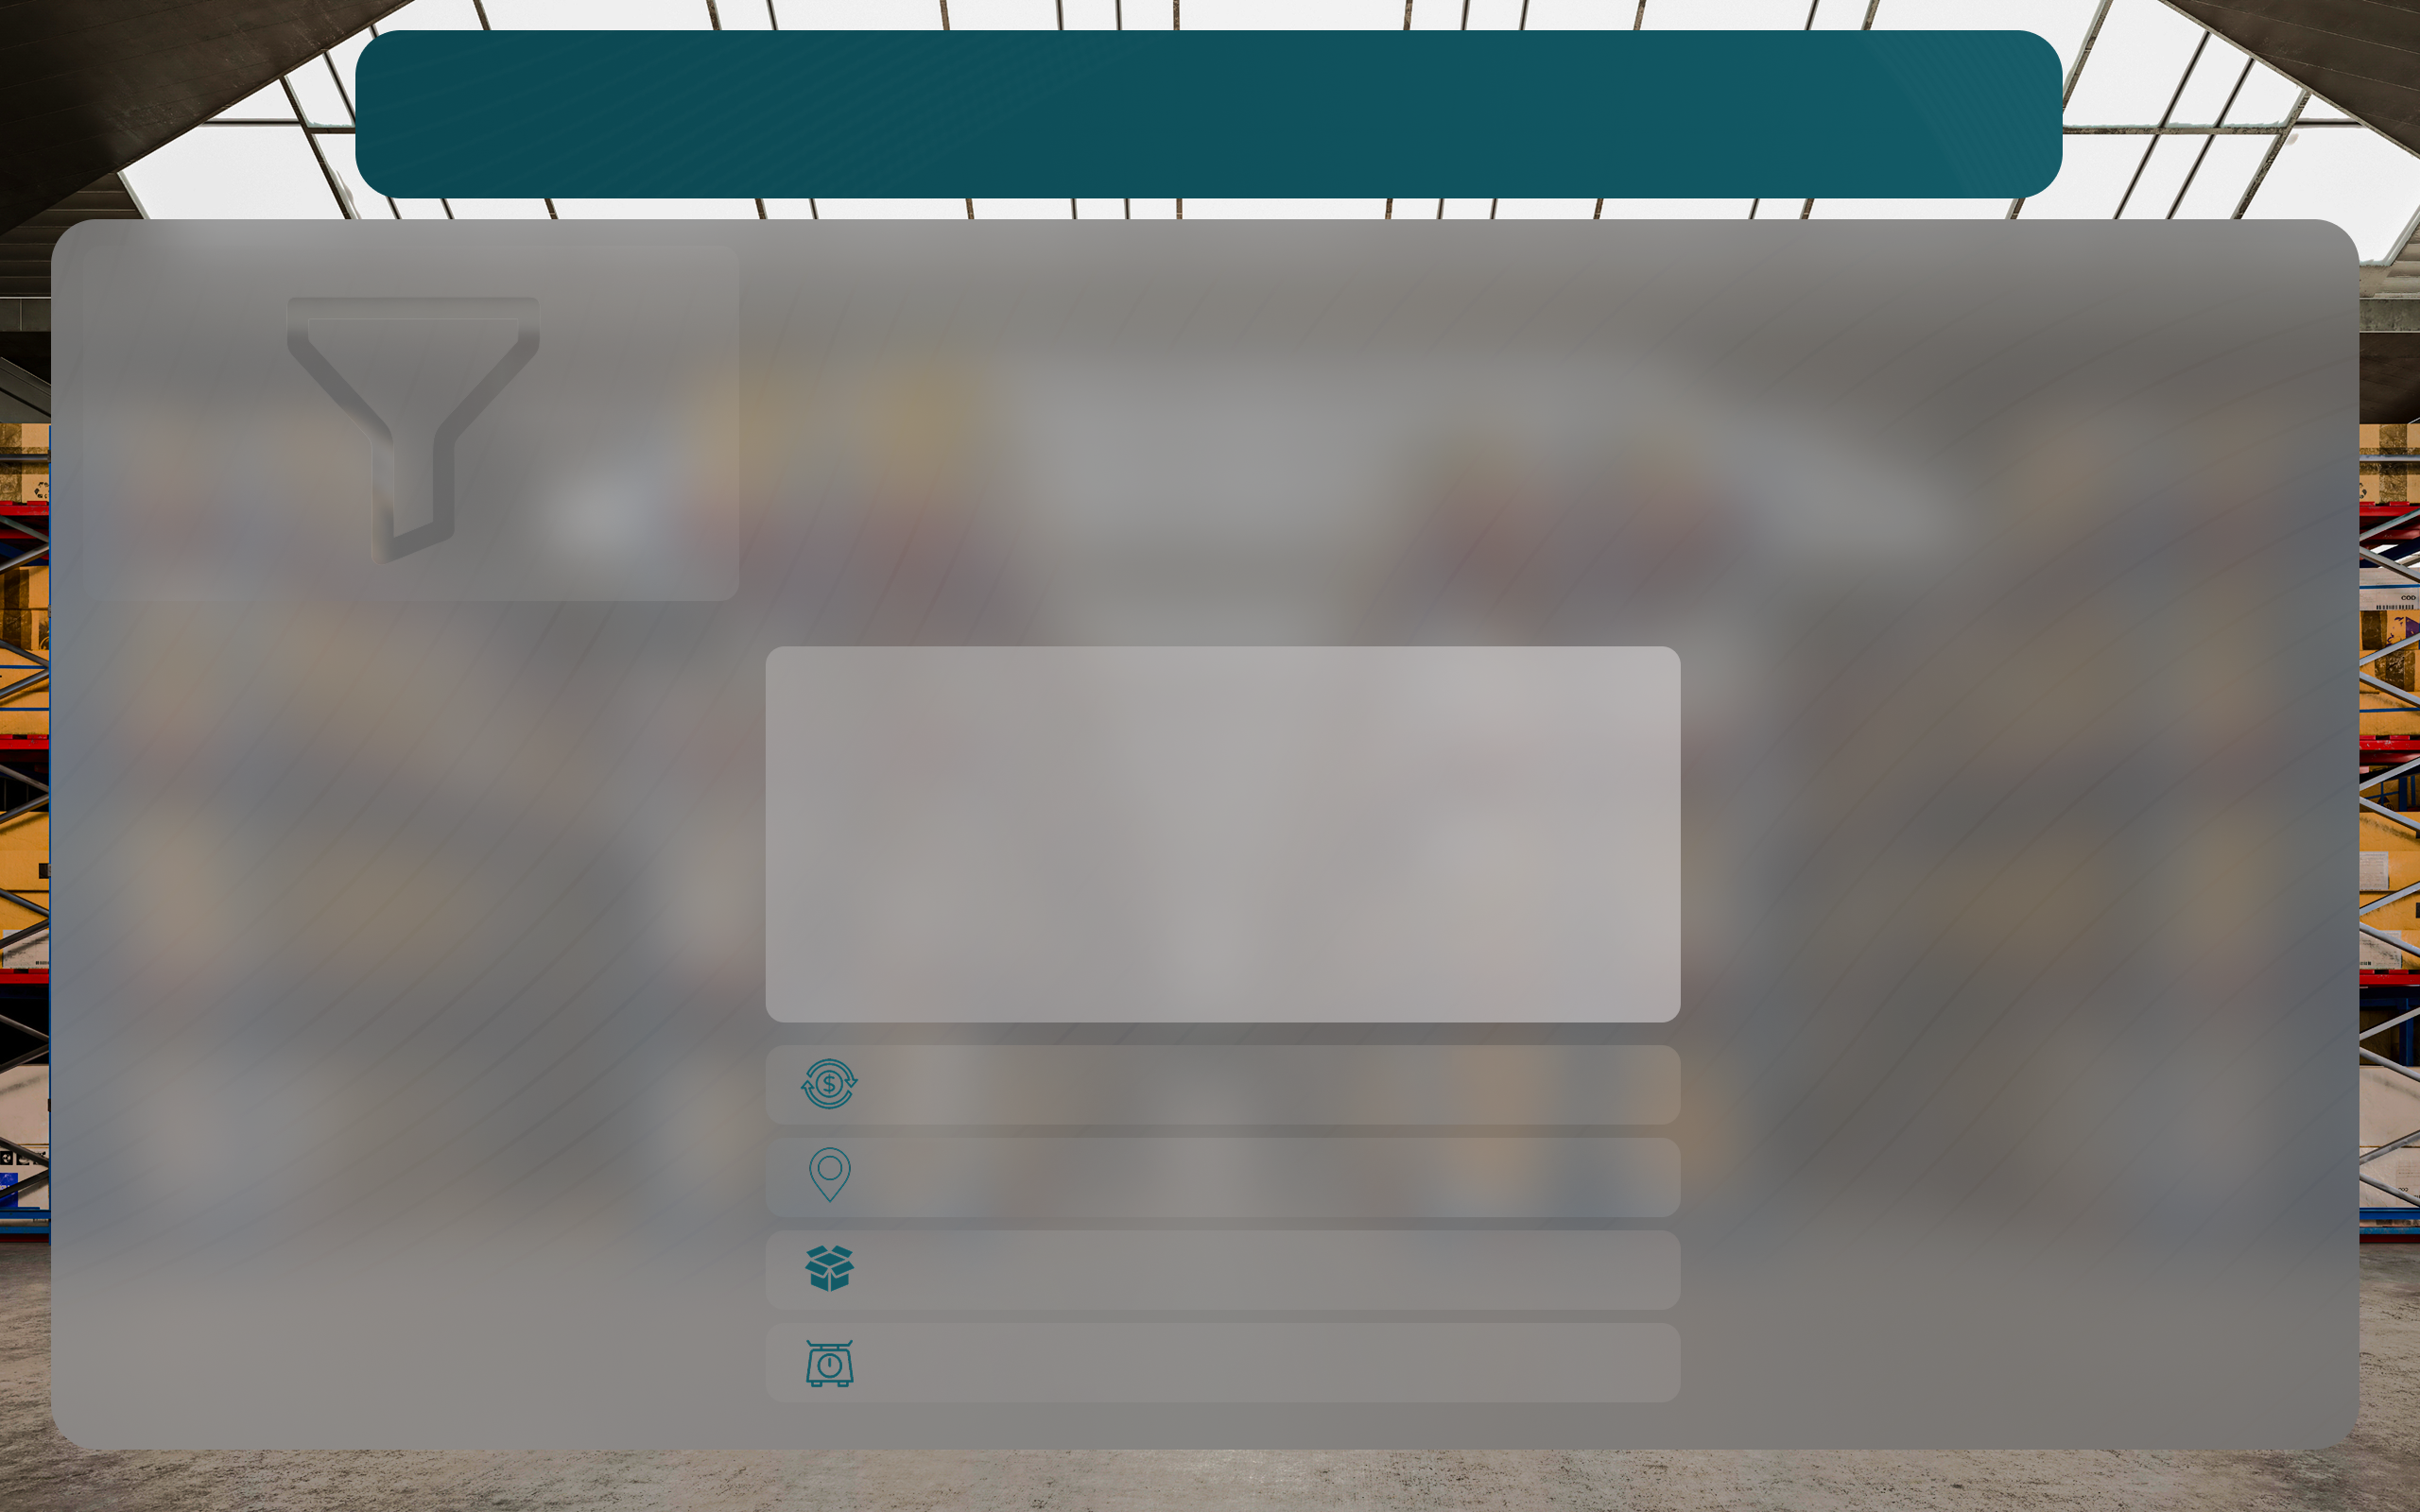

The dashboard page shown, as its layout file describes it:
{"tool":"powerbi","page":{"name":"Page 1","canvas":[1280,720],"ordinal":0},"visuals":[{"type":"lineChart","fields":{"Category":["Sheet1.Data de Coleta.Variation.Date Hierarchy.Year","Sheet1.Data de Coleta.Variation.Date Hierarchy.Quarter","Sheet1.Data de Coleta.Variation.Date Hierarchy.Month","Sheet1.Data de Coleta.Variation.Date Hierarchy.Day"],"Y":["Sheet1.AVERAGE VALOR FRETE"]},"box":[417.5,261.2,465.9,179.6],"z":0},{"type":"ImageGrid_FC5183B9_926C_45E0_B5F7_0CE9EAF1DA9B","fields":{"ImageURL":["Tipo_de_Veículo__Imagem. Imagem"]},"box":[406.2,70.6,701.5,416.3],"z":1000}]}

Visuals, with their boxes on the page's 1280x720 design canvas (x1, y1, x2, y2). These are canvas units, not pixel positions in the 2420x1512 screenshot, which may show the page scaled, cropped or inside an application window:
lineChart - Sheet1.Data de Coleta.Variation.Date Hierarchy.Year x Sheet1.Data de Coleta.Variation.Date Hierarchy.Quarter: [418,261,883,441]
ImageGrid_FC5183B9_926C_45E0_B5F7_0CE9EAF1DA9B - Tipo_de_Veículo__Imagem. Imagem: [406,71,1108,487]
